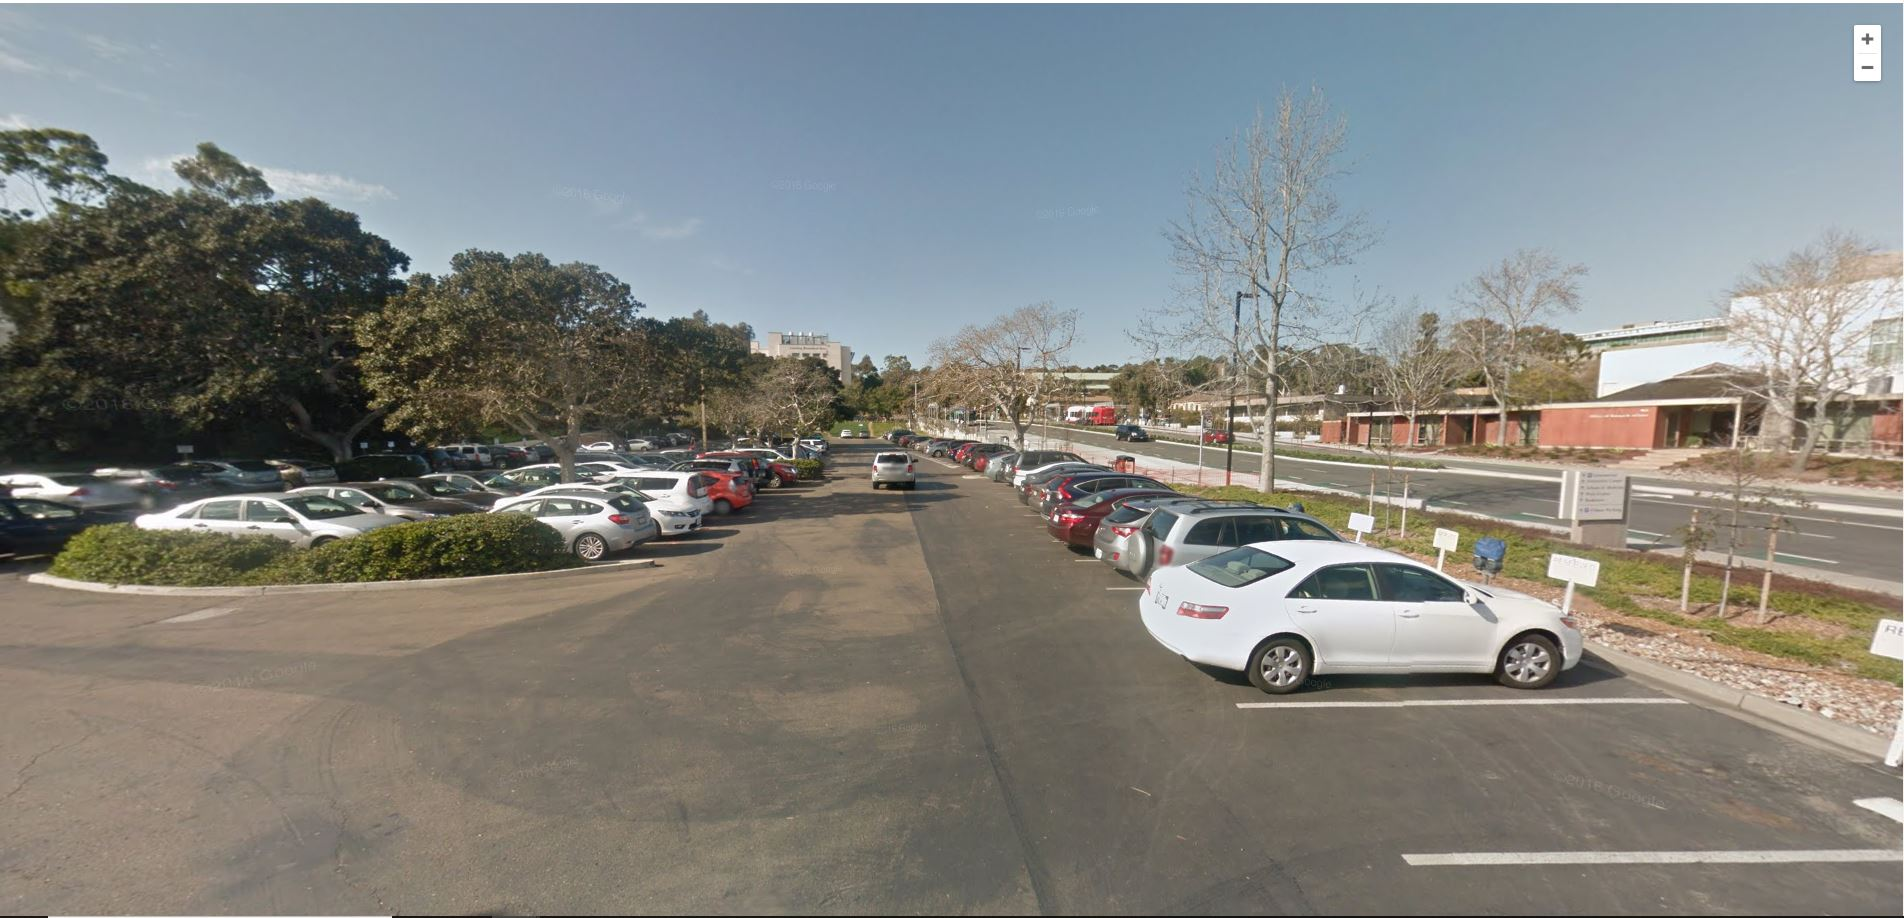car: (1128, 542, 1603, 703), (1123, 499, 1355, 597), (447, 489, 671, 579), (117, 487, 386, 559), (1086, 501, 1317, 555), (571, 466, 712, 523), (1047, 487, 1201, 535), (631, 455, 747, 511), (182, 457, 265, 494)
